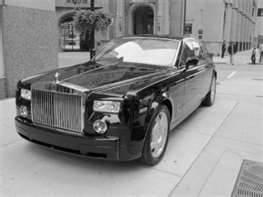car: (16, 37, 219, 168)
